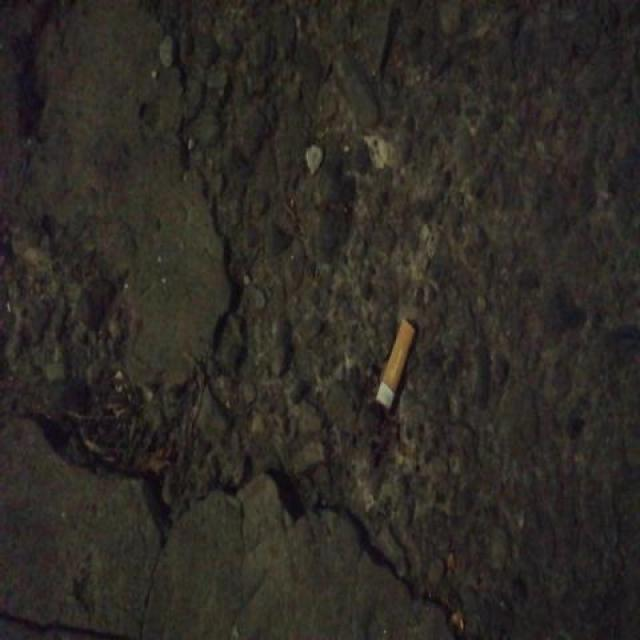non-organic waste: (373, 311, 419, 418)
